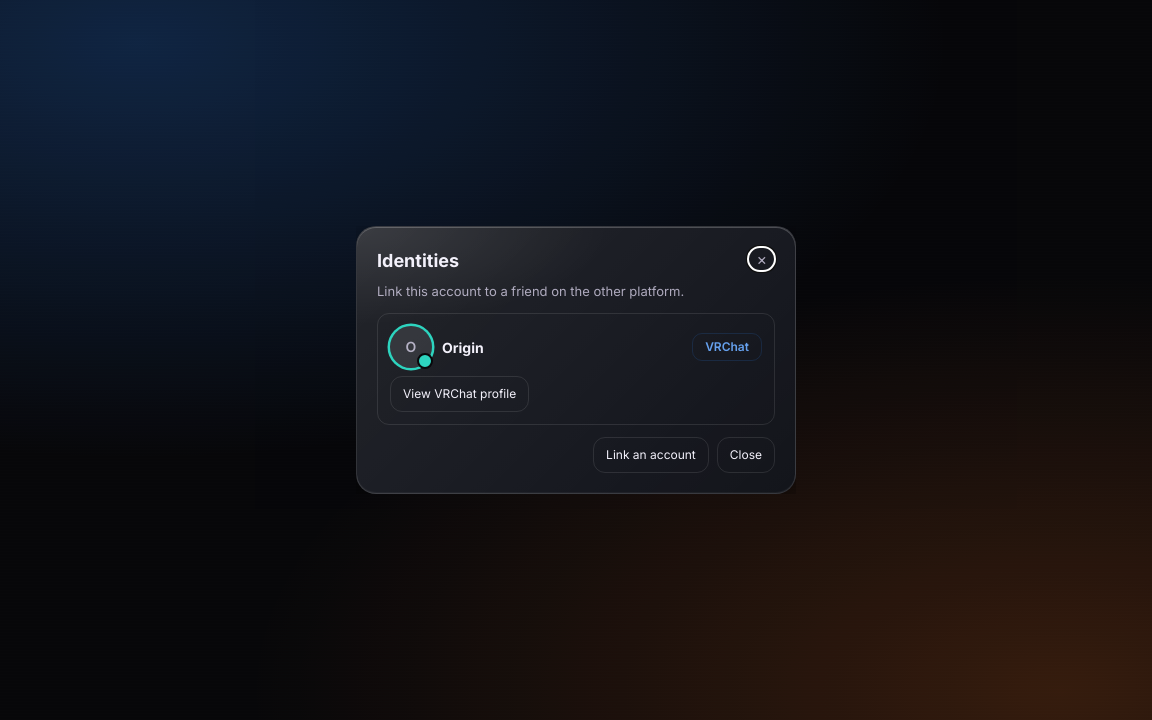
Scenario: identity management › includes offline friends and searches without changing accounts
Click the button "Link an account".
click(651, 455)  # box [593, 437, 709, 473]
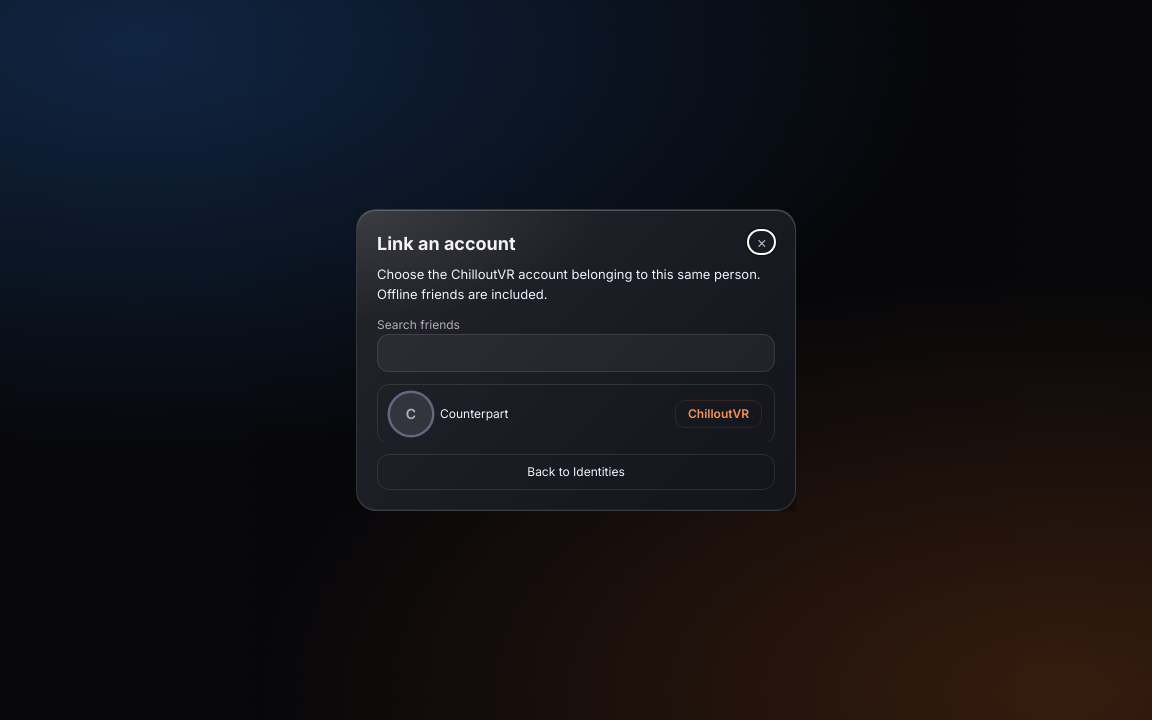
Now the text "Counterpart" is shown, box [440, 406, 508, 421]
Type "no match" into the search field.
click(576, 353); type("no match")  # box [377, 334, 775, 372]
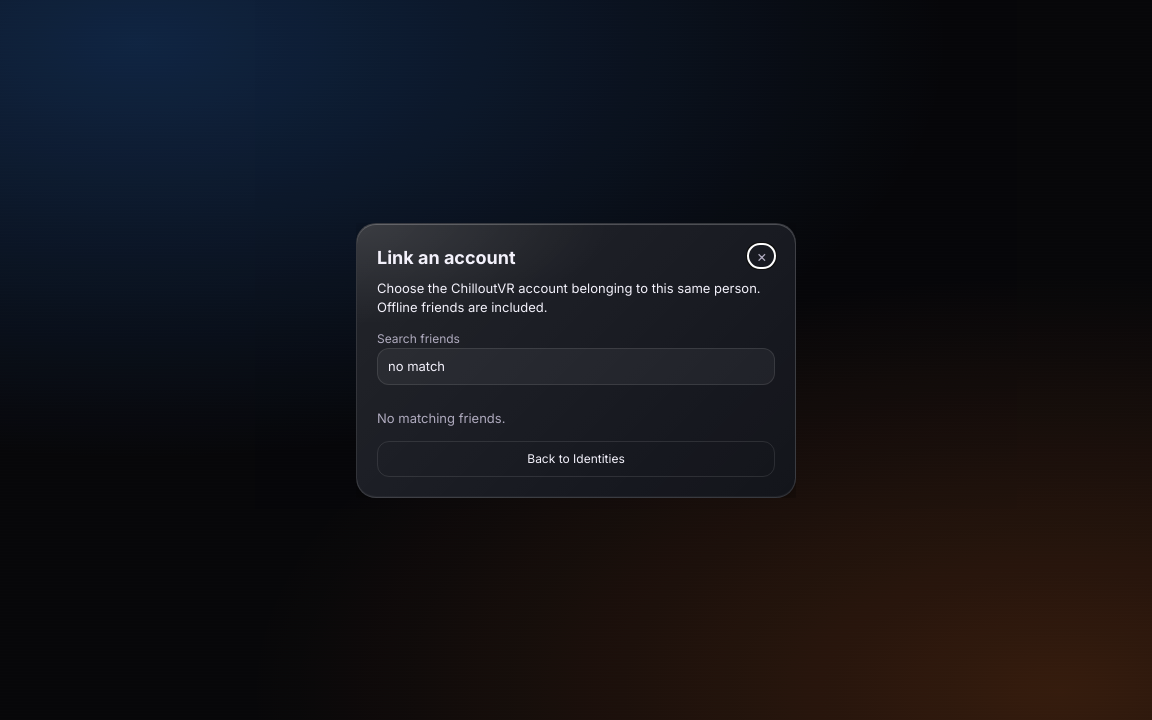
Now the text "No matching friends." is shown, box [377, 410, 506, 426]
